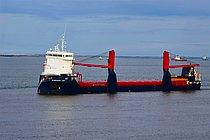Ship: (35, 25, 208, 98)
